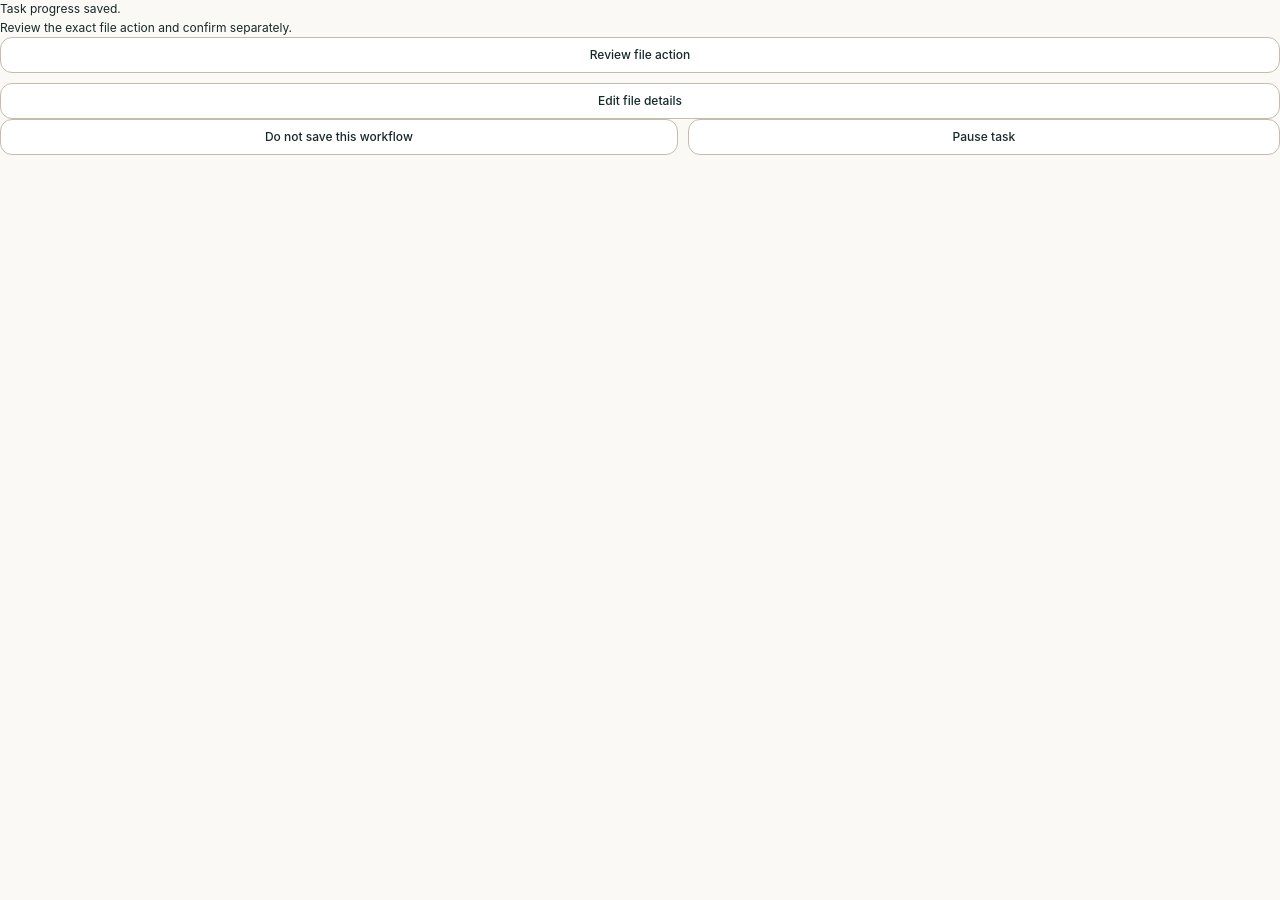
it: shows the exact native metadata version in the independent review
Click the button "Review file action" at (640, 55), box [0, 37, 1279, 73]
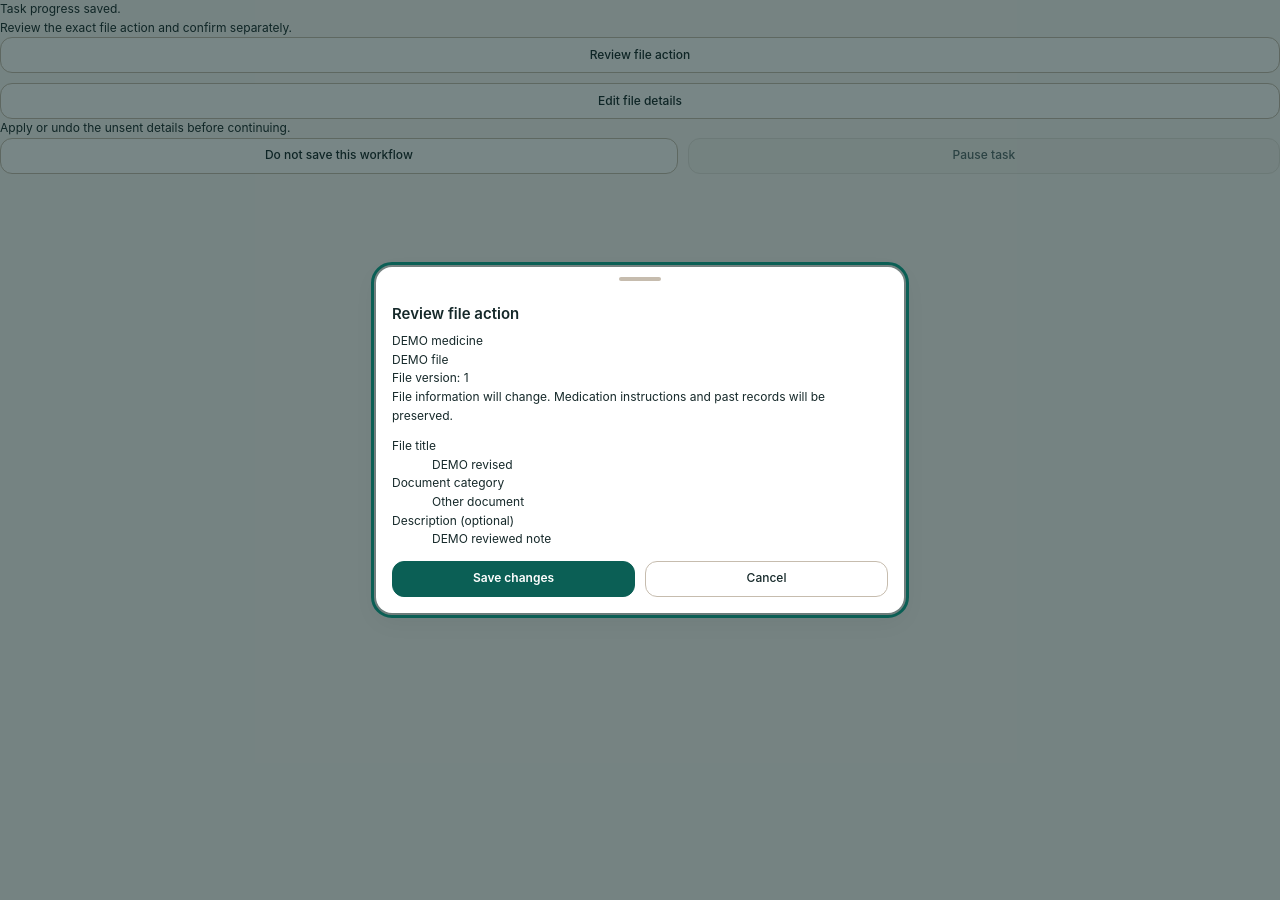
Expected: the dialog shows "File version: 1", [376, 267, 904, 613]
Expected: the dialog shows "Other document", [432, 494, 524, 509]
